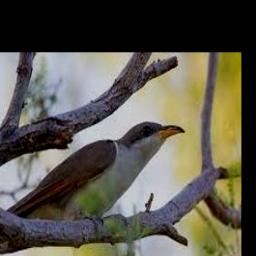Cuckoo: (5, 121, 184, 225)
